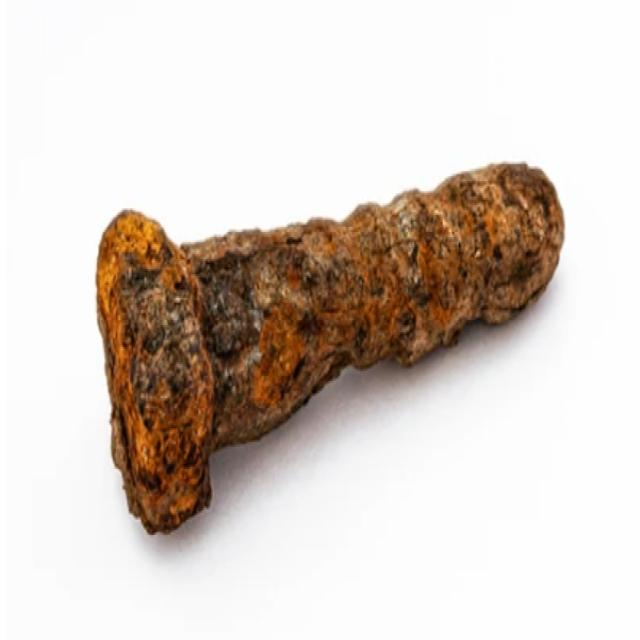corrosion: (89, 132, 567, 522)
